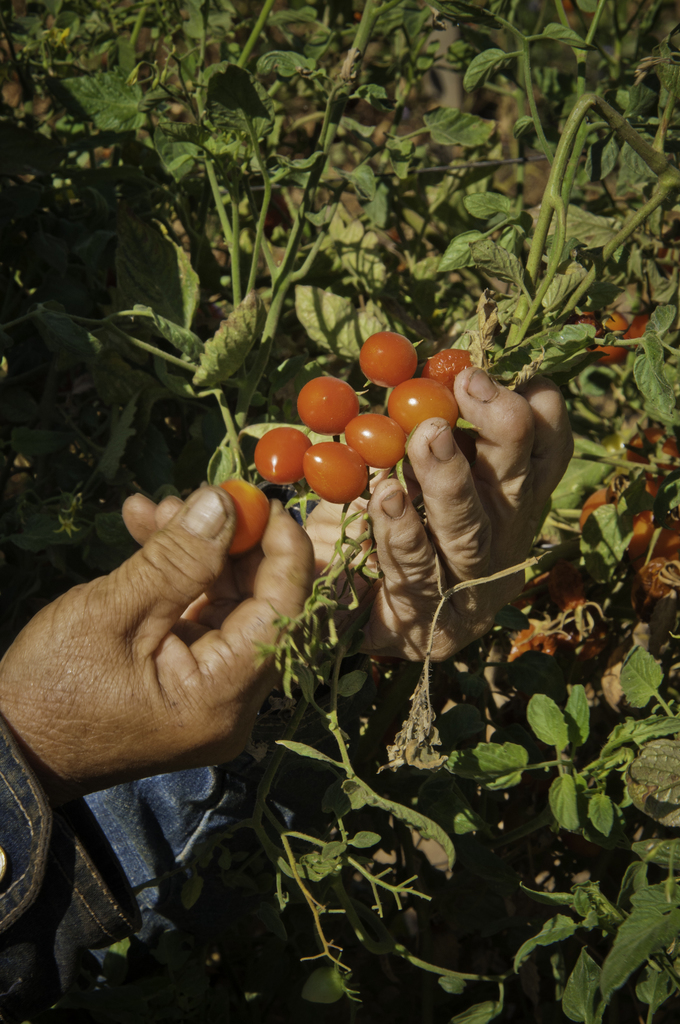Tomato: (578, 423, 679, 561), (300, 439, 372, 505), (386, 378, 456, 432), (354, 328, 420, 385), (218, 480, 268, 554), (299, 379, 358, 435), (251, 426, 309, 482), (346, 416, 409, 465), (421, 348, 470, 388), (624, 312, 650, 346), (605, 310, 630, 331)
